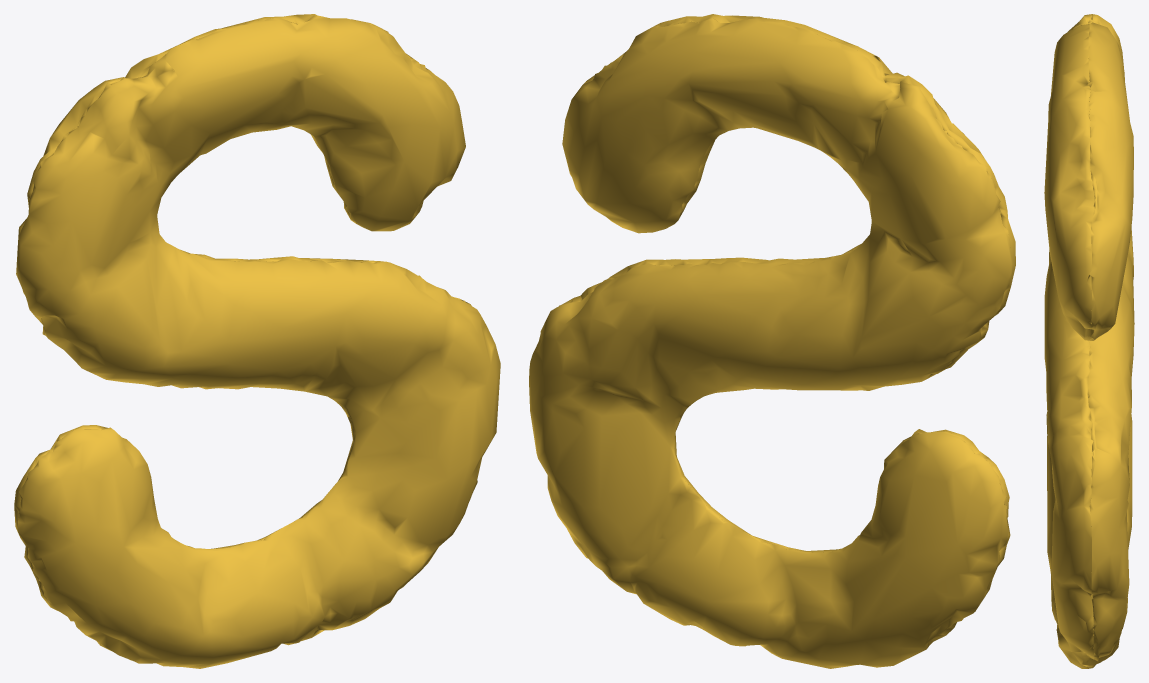
The model's file is Ballon_S.fbx.
The picture shows the model from 3 angles, left to right: view 1: azimuth 30°, elevation 25°; view 2: azimuth 150°, elevation 25°; view 3: azimuth 270°, elevation 25°; orthographic projection. The views are drawn at different scales.
Visible parts, largest first — view 1: Text; view 2: Text; view 3: Text.
Part boxes in pixels (<box>): Text: <box>14,14,500,668</box>; Text: <box>529,14,1015,668</box>; Text: <box>1044,14,1134,668</box>.
Bounding box in the file's own units: 49.16 × 61.75 × 8.71.
